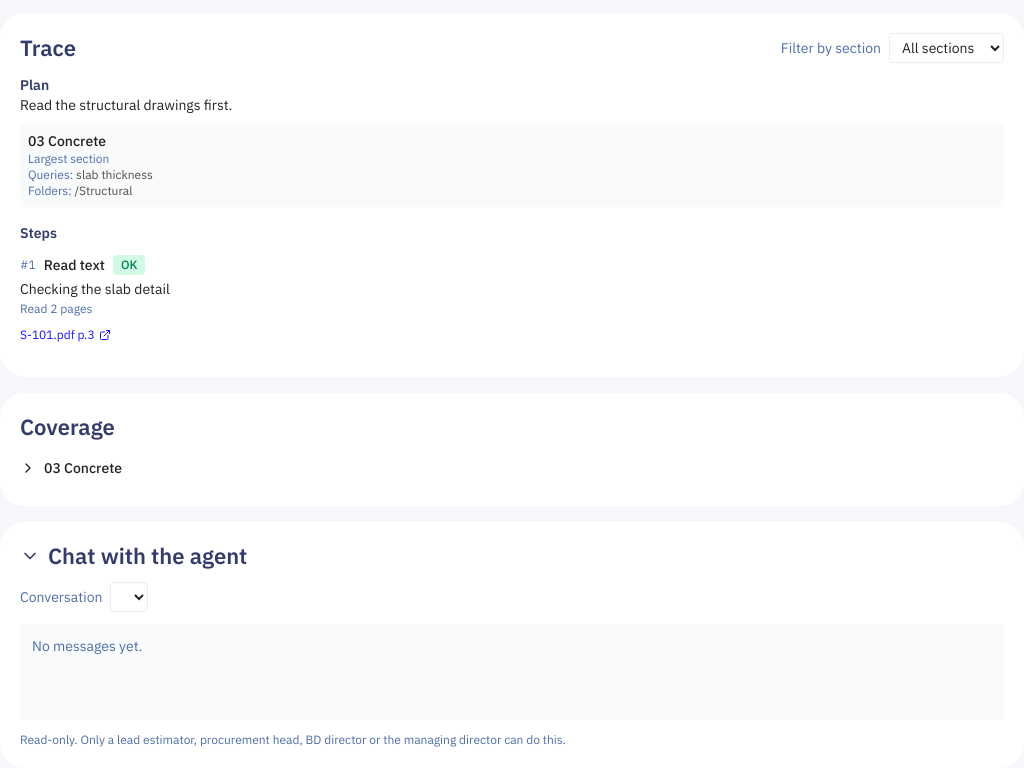
it: AgentTab › coverage and summary › expands a section to show files read, files not read and line counts
The image size is (1024, 768).
(page scrolled)
expect the text "/Structural/S-101.pdf (pages 2, 3)" is not shown: met
Click the button "03 Concrete": (83, 468) [20,458,1004,478]
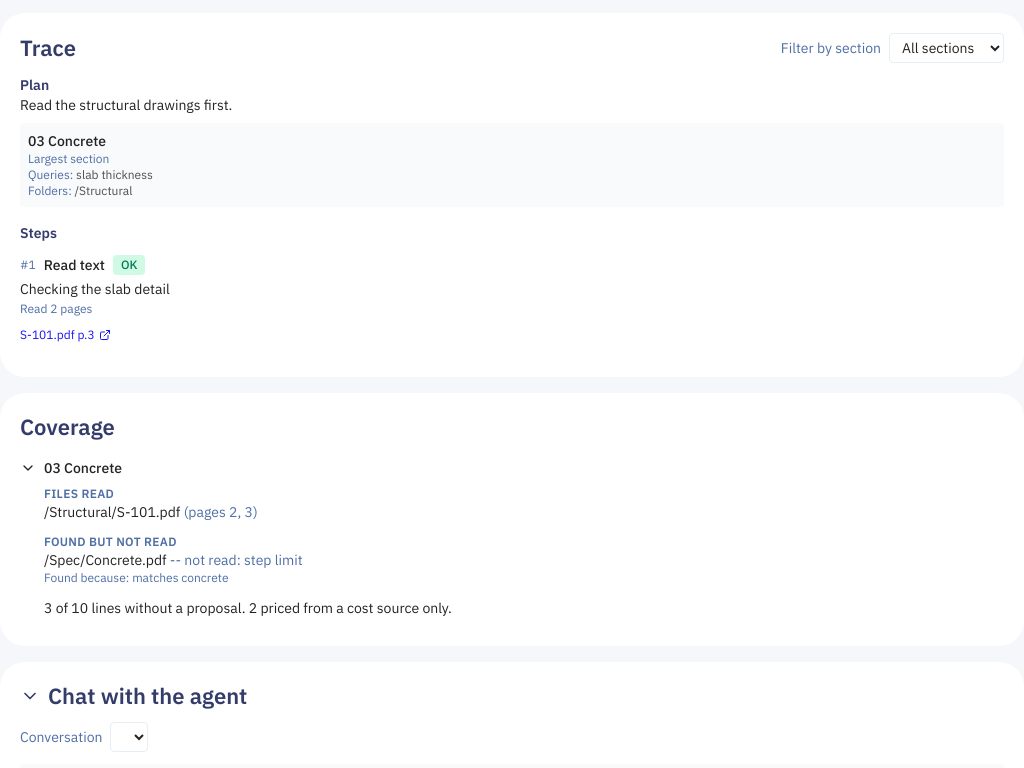
expect the button "03 Concrete" is expanded: met, box [20,458,1004,478]
expect the list item "/Structural/S-101.pdf (pages 2, 3)" is shown: met, box [44,503,258,521]
expect the list item "/Spec/Concrete.pdf" shows "not read: step limit": met, box [44,551,303,585]
